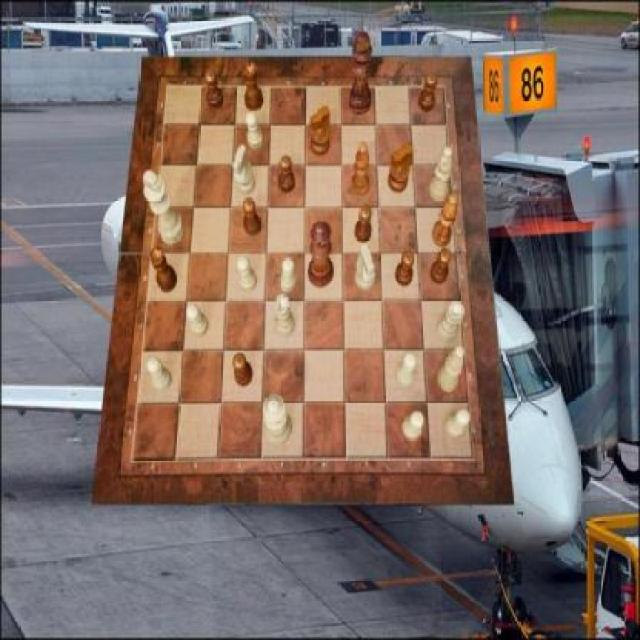bishop: (432, 192, 458, 247), (351, 142, 370, 199)
black-bishop: (350, 32, 372, 116)
black-king: (389, 143, 414, 192), (311, 104, 331, 156)
black-knight: (418, 74, 438, 112), (431, 248, 451, 284), (234, 352, 254, 387), (278, 155, 296, 193), (205, 71, 222, 111), (243, 199, 261, 236), (395, 250, 413, 286), (356, 205, 372, 242)
black-pawn: (308, 222, 334, 288)
black-queen: (149, 246, 177, 292), (243, 61, 263, 110)
black-rook: (429, 148, 453, 202), (438, 346, 466, 392)
white-bishop: (144, 169, 186, 244)
white-king: (232, 144, 255, 196), (356, 244, 376, 290)
white-knight: (148, 357, 172, 391), (186, 303, 209, 337), (446, 409, 471, 438), (237, 256, 257, 292), (396, 352, 416, 387), (246, 111, 264, 149), (403, 412, 426, 440), (280, 257, 297, 291)
white-pawn: (262, 394, 292, 446)
white-queen: (437, 300, 465, 342), (276, 294, 296, 338)
